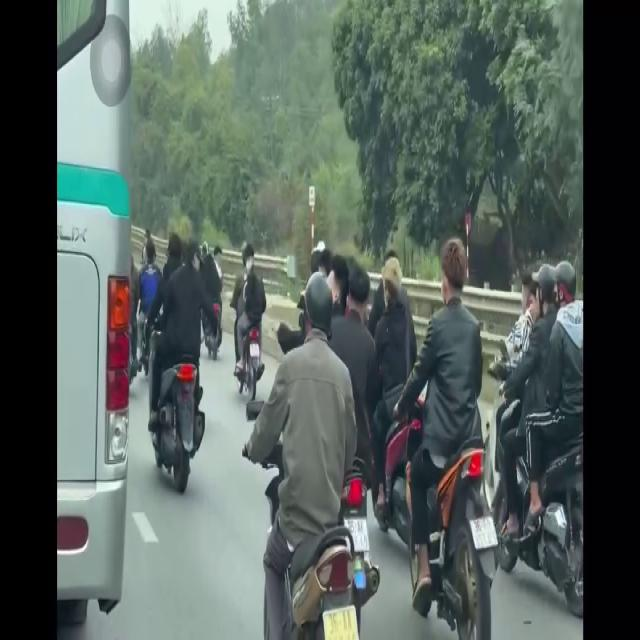helmet: (306, 268, 332, 354), (533, 258, 558, 329), (554, 260, 576, 328)
no_helmet: (437, 236, 467, 310), (244, 242, 257, 278)
